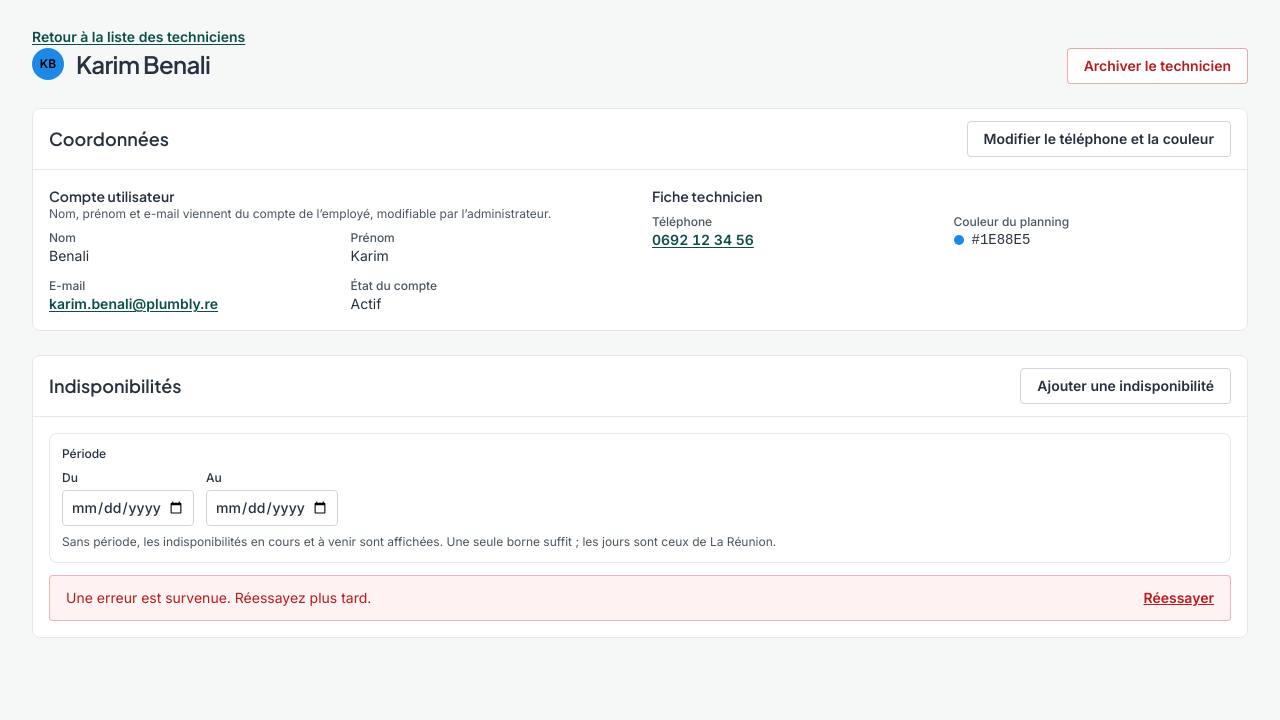
Scenario: liste des indisponibilités (US12) › US12 : un échec de lecture affiche l’alerte, et « Réessayer » relit la liste
The width and height of the screenshot is (1280, 720).
Expected: the element "Indisponibilités" is shown, x1=32 y1=355 x2=1248 y2=638
Expected: the message shows "Une erreur est survenue. Réessayez plus tard.", x1=66 y1=589 x2=371 y2=606
Step 1. Click the button "Réessayer" → (1179,598), box x1=1144 y1=588 x2=1214 y2=608
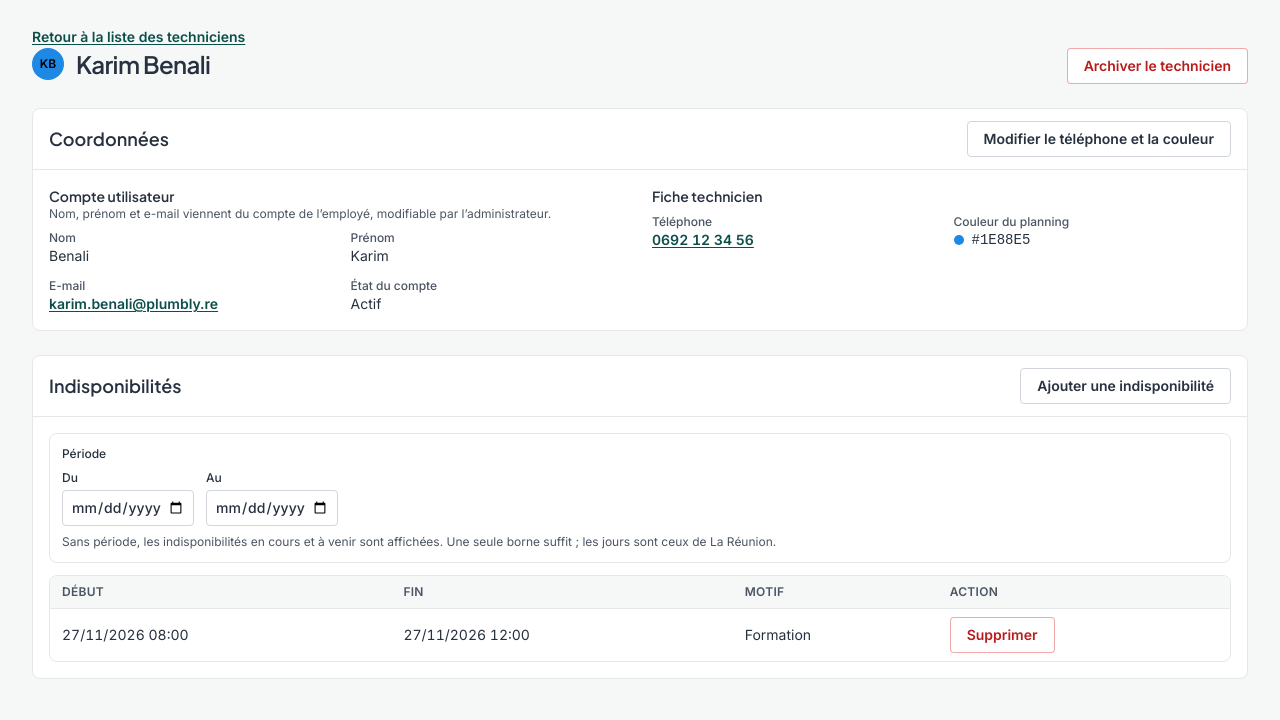
Now the text "Formation" is shown, box x1=733 y1=609 x2=938 y2=661
